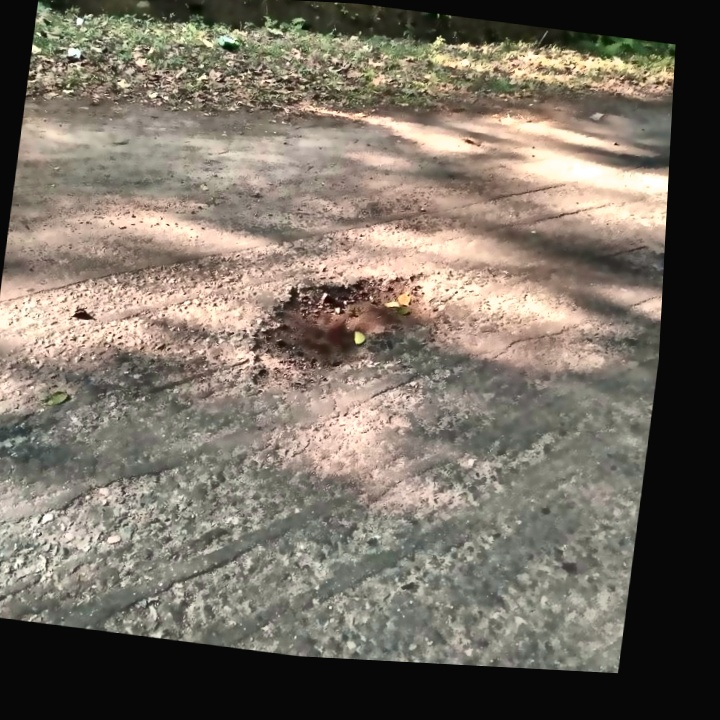pothole: (239, 246, 447, 414)
